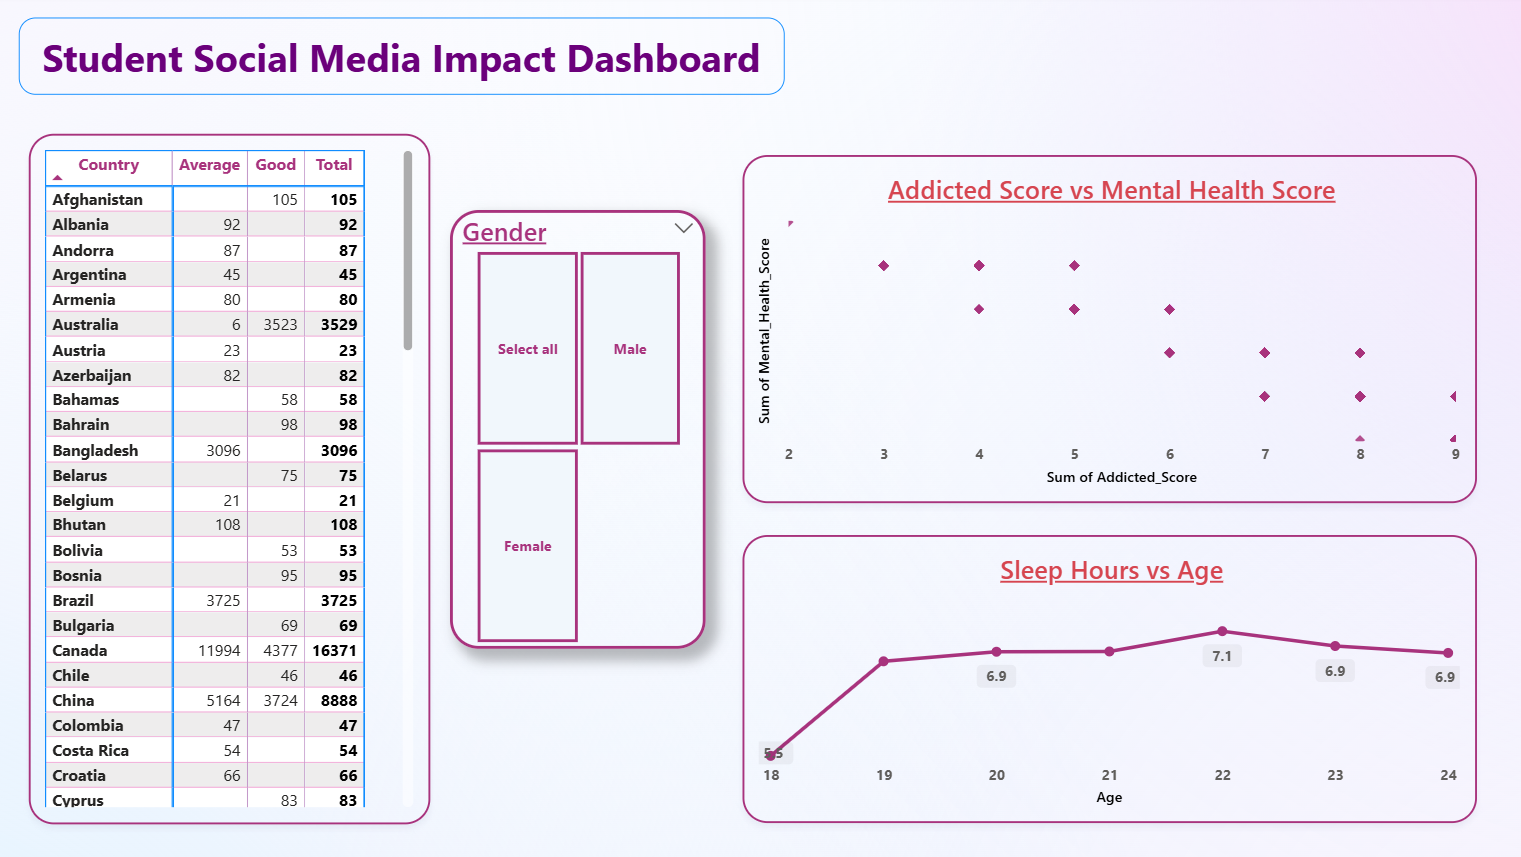

Layout of this report page (visuals, bound fields, positions):
{"tool":"powerbi","page":{"name":"Mental Health & Lifestyle","canvas":[1280,720],"ordinal":1},"visuals":[{"type":"scatterChart","title":"Addicted Score vs Mental Health Score","fields":{"X":["Sum(Student Details.Addicted_Score)"],"Y":["Sum(Student Details.Mental_Health_Score)"],"Category":["Student Details.Student_ID"]},"box":[623,130,616.2,291.7],"z":0},{"type":"pivotTable","fields":{"Rows":["Student Details.Country"],"Columns":["Student Details.Health Band"],"Values":["Sum(Student Details.Student_ID)"]},"box":[23.7,111.9,336.9,578.9],"z":1000},{"type":"lineChart","title":"Sleep Hours vs Age","fields":{"Category":["Student Details.Age"],"Y":["Avg(Student Details.Sleep_Hours_Per_Night)"]},"box":[623,448.9,616.2,242],"z":2000},{"type":"slicer","fields":{"Values":["Student Details.Gender"]},"box":[377.7,175.7,214.4,368],"z":3000},{"type":"textbox","box":[15.8,14.7,642.2,64.4],"z":3001}]}

Visuals, with their boxes in screenshot pixels (x1, y1, x2, y2), scaled from the page's 1280x720 canvas onto the 1521x857 screenshot:
"Addicted Score vs Mental Health Score" scatterChart: 740/155/1473/502
pivotTable - Student Details.Country x Student Details.Health Band: 28/133/428/822
"Sleep Hours vs Age" lineChart: 740/534/1473/822
slicer - Student Details.Gender: 449/209/704/647
textbox: 19/17/782/94
